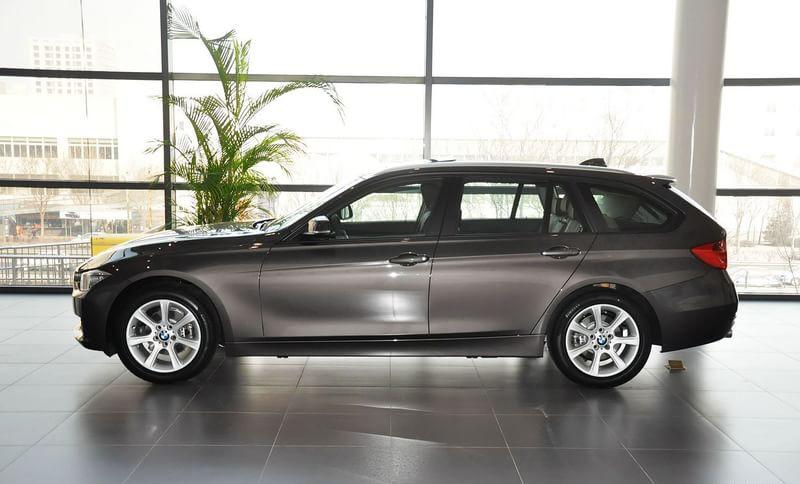Wagon: (70, 156, 741, 389)
